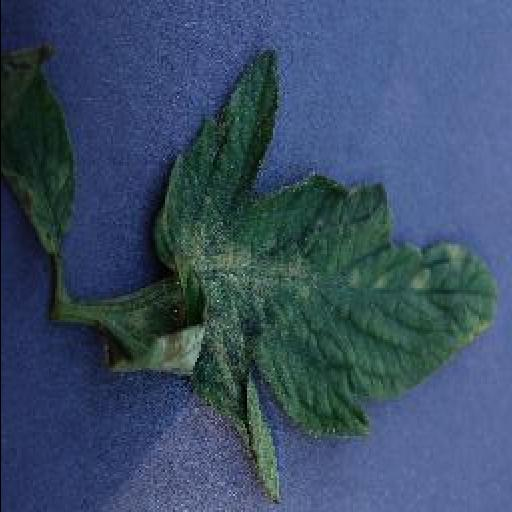disease_tomato: (107, 54, 497, 507)
